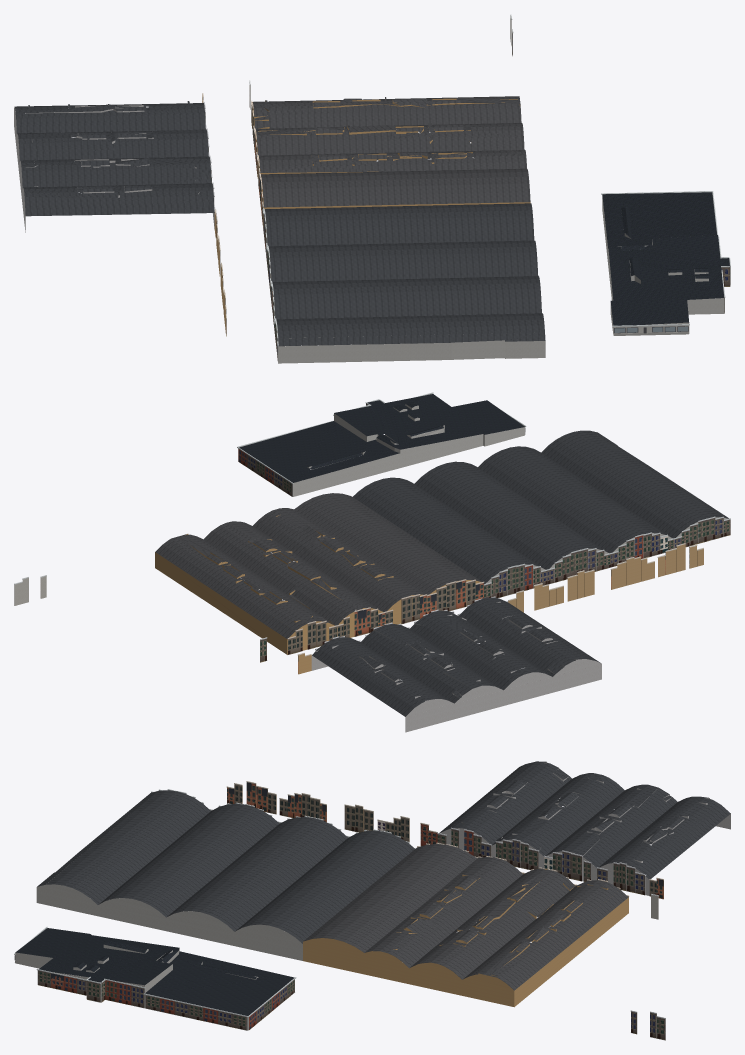
3 views of the same model, one above another, from view 1: azimuth 30°, elevation 25°; view 2: azimuth 150°, elevation 25°; view 3: azimuth 270°, elevation 25° (orthographic). The views are drawn at different scales.
Parts seen in each view (by area): view 1: bldg_6006376233_roof, bldg_6006379141_roof, bldg_6006379140_roof, bldg_6004321577_roof, bldg_6006376233, bldg_6006379141, bldg_6004321577, bldg_6006379140, bldg_6004321577_facade3; view 2: bldg_6006376233_roof, bldg_6006379141_roof, bldg_6006379140_roof, bldg_6004321577_roof, bldg_6006379140, bldg_6004321577, bldg_6006379141, bldg_6004321577_facade4; view 3: bldg_6006376233_roof, bldg_6006379141_roof, bldg_6006379140_roof, bldg_6004321577_roof, bldg_6006379141, bldg_6006376233, bldg_6006379140, bldg_6004321577_facade5, bldg_6004321577, bldg_6004321577_facade6, bldg_6004321577_facade2, bldg_6004321577_facade4.
Part boxes in pixels (x1,y1,x2,y2): bldg_6006376233_roof: (265,203,545,346); bldg_6006379141_roof: (253,96,530,207); bldg_6006379140_roof: (15,101,214,216); bldg_6004321577_roof: (602,192,729,325); bldg_6006376233: (264,210,545,363); bldg_6006379141: (252,98,530,208); bldg_6004321577: (602,196,724,335); bldg_6006379140: (14,102,214,232); bldg_6004321577_facade3: (612,324,689,335); bldg_6006376233_roof: (353,430,728,584); bldg_6006379141_roof: (155,493,481,639); bldg_6006379140_roof: (312,597,600,716); bldg_6004321577_roof: (239,394,524,482); bldg_6006379140: (311,601,601,732); bldg_6004321577: (292,404,524,496); bldg_6006379141: (155,515,481,654); bldg_6004321577_facade4: (237,447,293,496); bldg_6006376233_roof: (37,790,414,943); bldg_6006379141_roof: (303,844,628,990); bldg_6006379140_roof: (439,761,730,879); bldg_6004321577_roof: (15,928,294,1015); bldg_6006379141: (303,868,628,1007); bldg_6006376233: (36,877,302,960); bldg_6006379140: (440,762,730,895); bldg_6004321577_facade5: (143,993,248,1030); bldg_6004321577: (15,934,258,1030); bldg_6004321577_facade6: (104,978,145,1008); bldg_6004321577_facade2: (36,969,86,995); bldg_6004321577_facade4: (248,977,296,1029).
Size of the model in its own units: 244 by 13.16 by 287.
21 materials, 9 textured.
